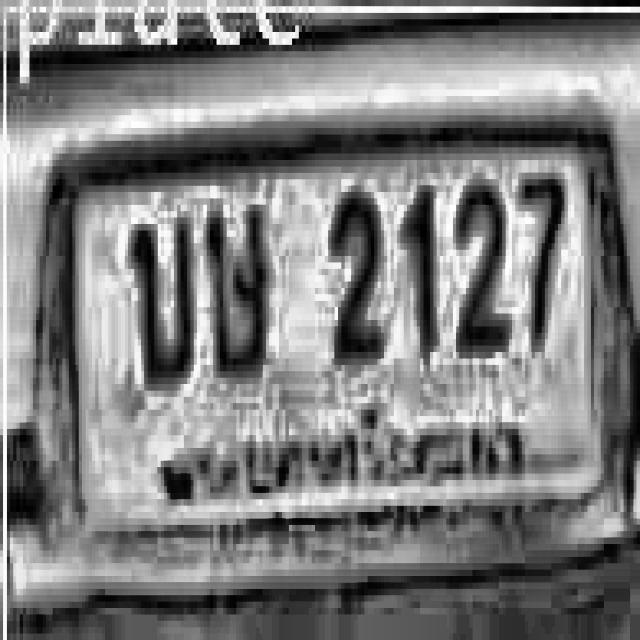license-plate: (24, 90, 631, 602)
